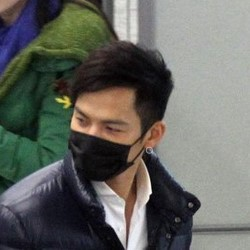mask: (61, 123, 141, 185)
